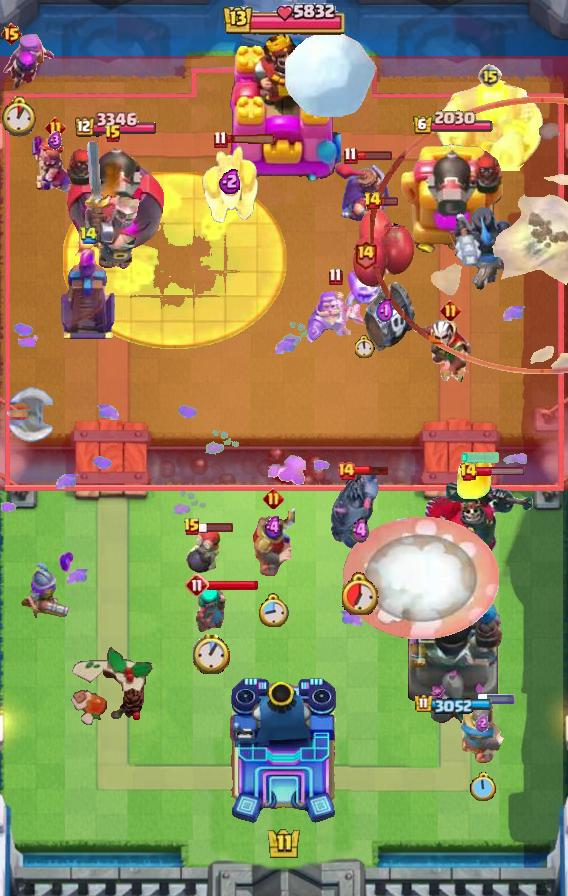bomb-tower: (19, 561, 79, 621)
clock: (221, 0, 347, 40)
electro-spirit: (219, 168, 242, 194), (351, 517, 369, 545), (376, 298, 394, 325), (263, 517, 284, 540), (48, 131, 62, 149), (475, 714, 489, 732)
elixir: (0, 95, 39, 136), (342, 572, 379, 615), (193, 634, 230, 675), (258, 593, 289, 627), (469, 772, 496, 803), (355, 335, 375, 358)
elixir-golem-big: (335, 160, 393, 226)
elixir-golem-small: (199, 145, 261, 225)
emote: (225, 134, 277, 146), (207, 579, 259, 591), (475, 467, 526, 478), (198, 521, 234, 533), (356, 150, 393, 161), (354, 465, 390, 476), (478, 694, 516, 704), (381, 196, 400, 207)
firecracker: (252, 508, 295, 577), (458, 703, 506, 764)
firecracker-evolution: (307, 290, 363, 346)
giant-skeleton: (435, 77, 545, 171)
golemite: (329, 467, 391, 571)
ice-golem: (183, 527, 223, 575)
ice-spirit: (460, 451, 500, 463)
ice-spirit-evolution-symbol: (58, 249, 118, 341)
inferno-dragon: (452, 204, 512, 294)
inferno-tower: (423, 473, 537, 573)
king-tower: (227, 29, 341, 181), (228, 676, 340, 826)
mirror: (344, 259, 386, 309)
phoenix-egg: (63, 172, 288, 349)
rascal-girl: (0, 33, 56, 97)
royal-ghost: (369, 98, 568, 375)
royal-giant: (0, 386, 56, 444)
royal-recruit-evolution: (351, 206, 419, 356)
selected: (72, 112, 156, 140), (412, 110, 494, 136), (416, 694, 493, 714)
skeleton-king: (411, 318, 489, 382)
tesla-evolution: (27, 133, 83, 199)
text: (353, 238, 378, 269), (478, 64, 502, 88), (185, 573, 209, 597), (1, 22, 24, 46), (46, 117, 67, 139), (439, 299, 460, 321), (263, 488, 284, 509), (336, 461, 356, 481), (363, 191, 382, 211), (459, 462, 478, 482), (104, 124, 122, 144), (183, 517, 201, 537), (79, 227, 98, 245), (328, 267, 343, 286), (213, 131, 227, 149), (343, 147, 357, 165)
tower-bar: (402, 579, 504, 731), (399, 138, 507, 256), (63, 138, 164, 256)
valkyrie: (455, 453, 495, 501)
wall-breaker: (344, 517, 501, 639), (283, 28, 377, 120)
wall-breaker-evolution: (81, 139, 145, 273)
witch: (193, 583, 229, 635)
